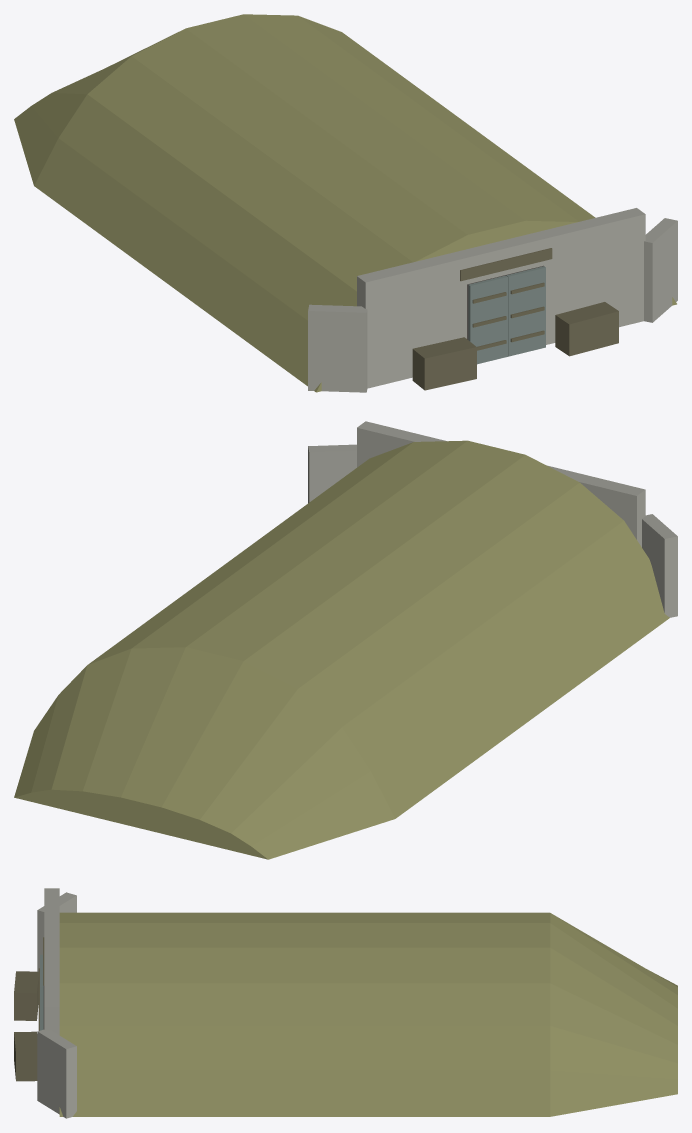
Rendered from SM_Polvorin_v2_LOD0.fbx.
3 renders of one model, top to bottom at view 1: azimuth 30°, elevation 25°; view 2: azimuth 150°, elevation 25°; view 3: azimuth 270°, elevation 25°, orthographic. The views are drawn at different scales.
Visible parts, largest first — view 1: SM_polvorin_v2_LOD0, Puerta_E, Puerta_O; view 2: SM_polvorin_v2_LOD0; view 3: SM_polvorin_v2_LOD0.
Part boxes in pixels (left/top/right/bottom): SM_polvorin_v2_LOD0: left=14, top=14, right=677, bottom=392; Puerta_E: left=506, top=266, right=545, bottom=356; Puerta_O: left=468, top=275, right=507, bottom=364; SM_polvorin_v2_LOD0: left=14, top=421, right=677, bottom=859; SM_polvorin_v2_LOD0: left=14, top=888, right=677, bottom=1118.
Bounding box in the file's own units: 14.53 × 4.53 × 25.99.
